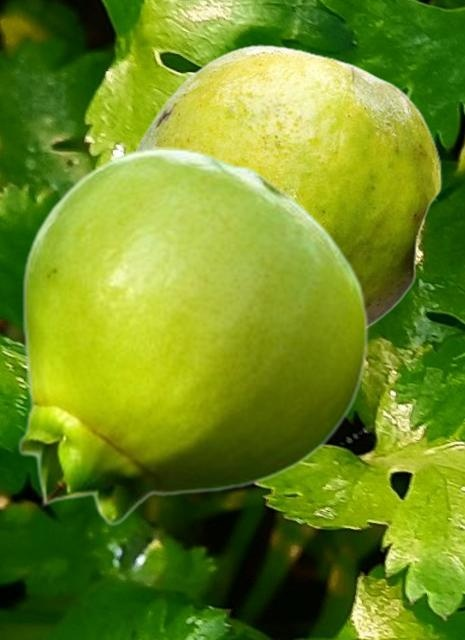guava: (17, 147, 368, 525), (133, 44, 441, 329)
